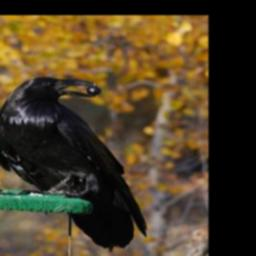Crow: (0, 76, 147, 251)
